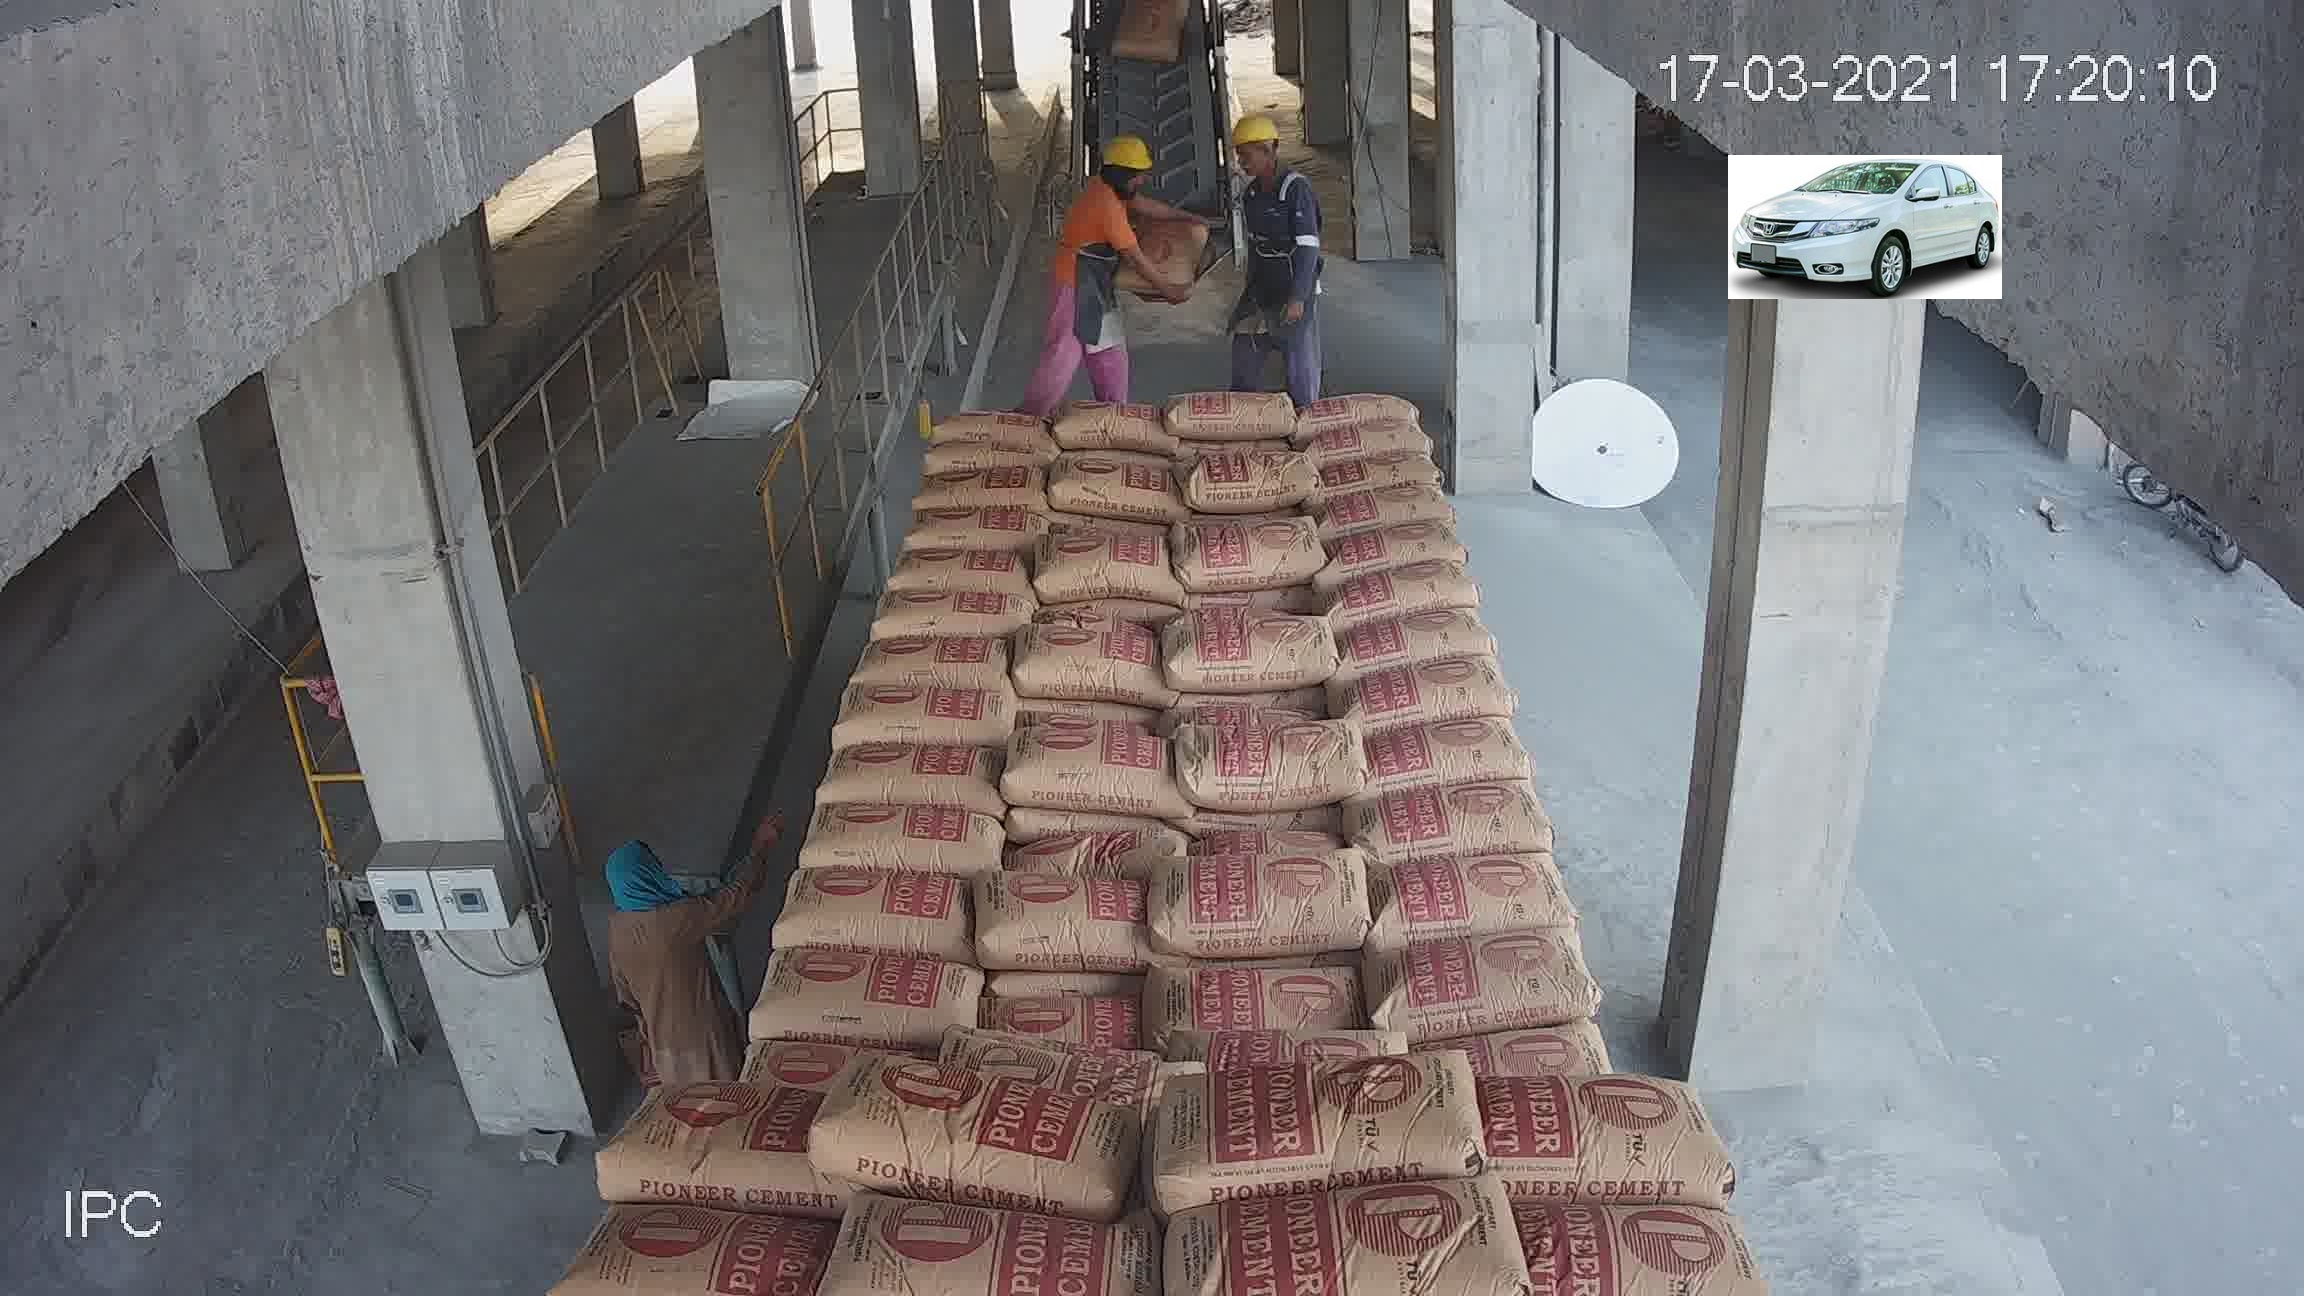bag: (1101, 468, 1247, 636), (1086, 57, 1214, 176)
bag_h: (639, 949, 897, 1090), (587, 1079, 810, 1226)
belt: (1000, 27, 1324, 524)
